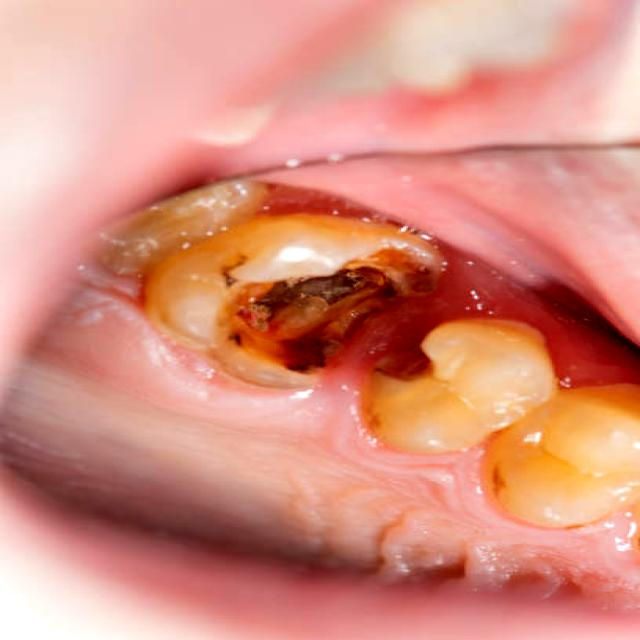cariess: (187, 235, 419, 371)
